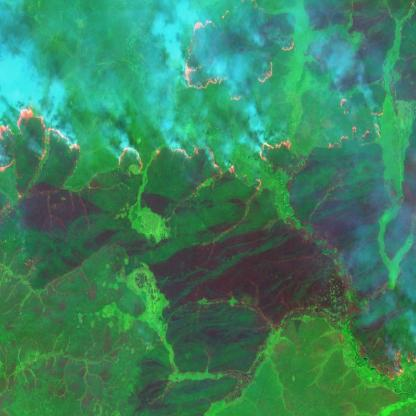fire: (116, 120, 383, 192), (182, 0, 297, 104), (0, 104, 82, 176)
